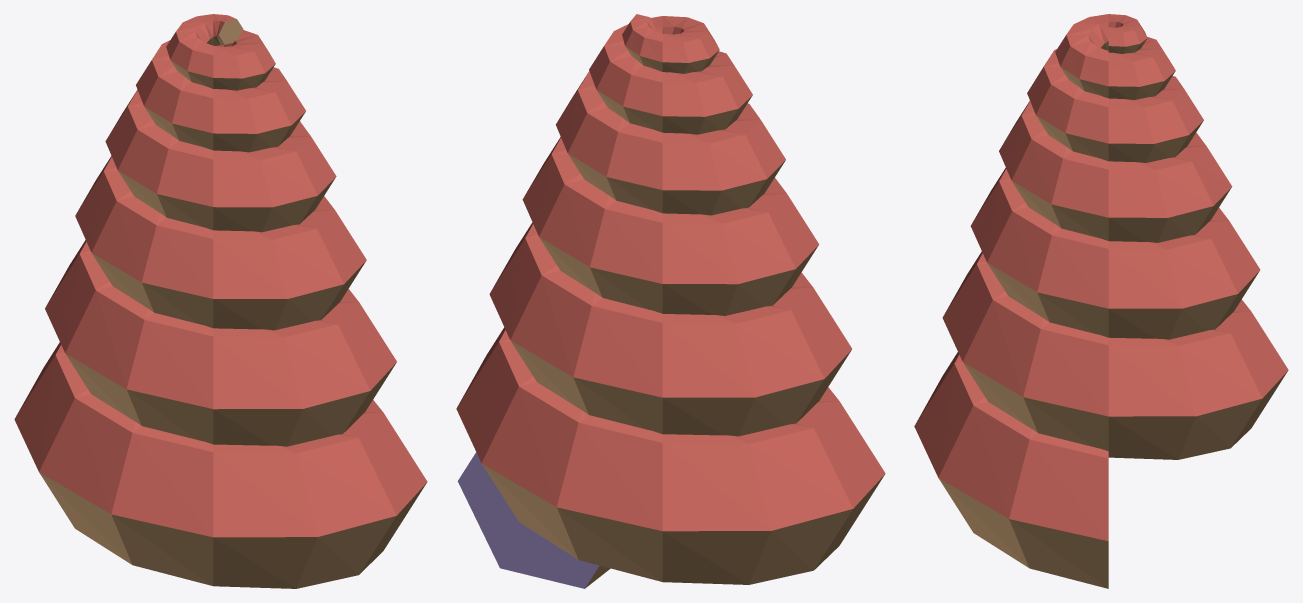
File: deco_turret_shell.obj
3 renders of one model, left to right at view 1: azimuth 30°, elevation 25°; view 2: azimuth 150°, elevation 25°; view 3: azimuth 270°, elevation 25°, orthographic. The views are drawn at different scales.
Visible parts, largest first — view 1: deco_turret_shell; view 2: deco_turret_shell; view 3: deco_turret_shell.
Boxes of the visible parts, bbox=[...] form: deco_turret_shell: bbox=[14, 14, 427, 588]; deco_turret_shell: bbox=[456, 14, 885, 588]; deco_turret_shell: bbox=[914, 14, 1288, 588].
Bounding box in the file's own units: 0.0411 × 0.0583 × 0.0396.
1 material, 1 textured.
